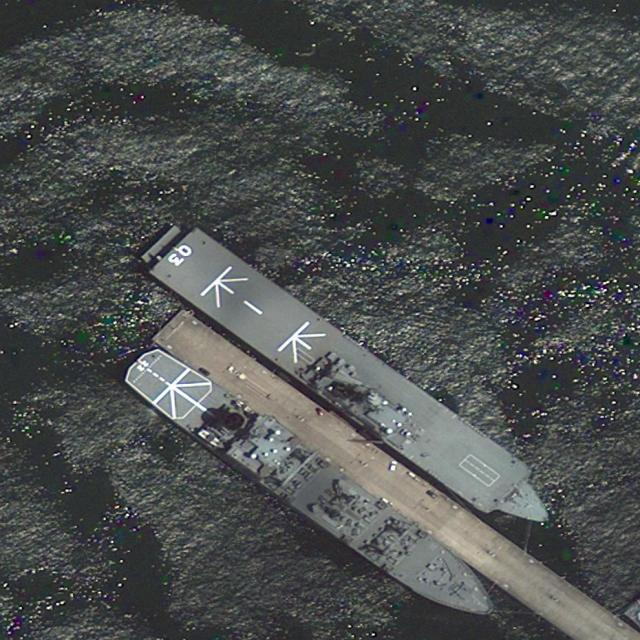Auxiliary Ships: (118, 338, 509, 634)
Landing: (138, 209, 568, 549)
